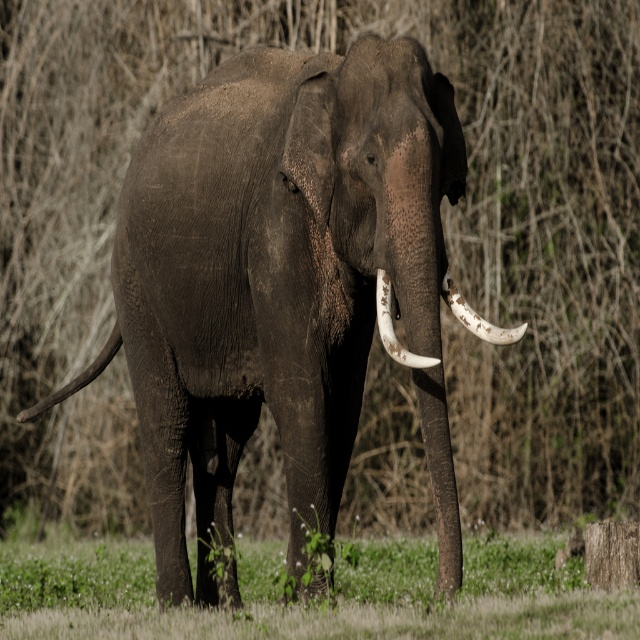Elephant: (15, 31, 527, 609)
